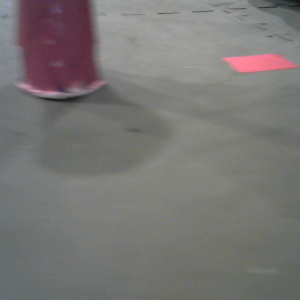middle: (11, 1, 109, 101)
